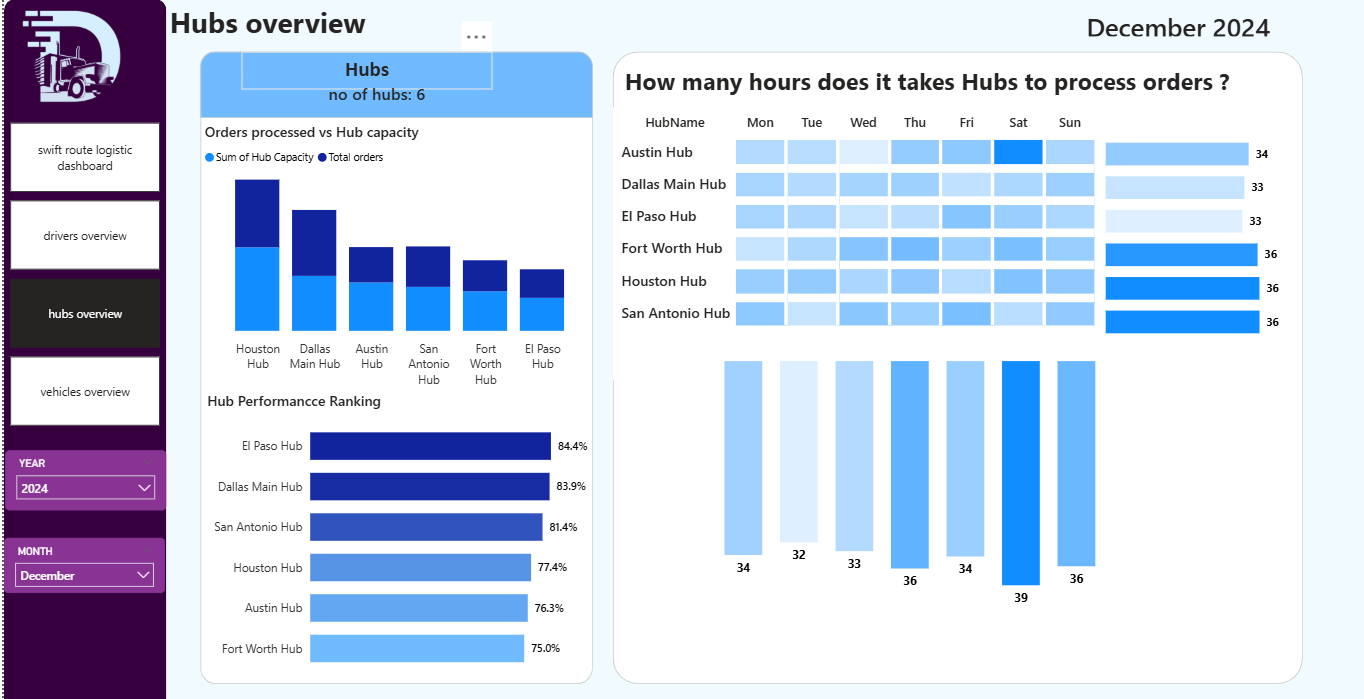

The page's visual inventory and layout, read from the dashboard file:
{"tool":"powerbi","page":{"name":"hubs overview","canvas":[1600,800],"ordinal":2},"visuals":[{"type":"shape","box":[0,0,185.7,892.9],"z":0},{"type":"textbox","box":[184.8,0,667,60.6],"z":1000},{"type":"slicer","fields":{"Values":["Date Table.YEAR"]},"box":[1.4,515.7,184.3,68.6],"z":2000},{"type":"slicer","fields":{"Values":["Date Table.MONTH"]},"box":[0,615.7,184.3,62.9],"z":3000},{"type":"image","box":[10,0,137.1,140],"z":4000},{"type":"cardVisual","fields":{"Data":["Orders.year month title"]},"box":[1170,0,344.3,60],"z":5000},{"type":"shape","box":[695.7,60,788.6,722.9],"z":6000},{"type":"shape","box":[224.3,60,448.6,722.9],"z":7000},{"type":"shape","box":[224.3,60,448.6,75.7],"z":8000},{"type":"textbox","box":[271.4,60,287.1,42.9],"z":9000},{"type":"cardVisual","fields":{"Data":["Hubs.no of hubs"]},"box":[254.3,72.9,344.3,67.1],"z":10000},{"type":"columnChart","title":"Orders processed vs Hub capacity","fields":{"Category":["Hubs.HubName"],"Y":["Sum(Hubs.Hub Capacity)","Orders.Total orders"]},"box":[224.3,140,448.6,311.4],"z":11000},{"type":"barChart","title":"Hub Performancce Ranking","fields":{"Category":["Hubs.HubName"],"Y":["Orders.On time delivery rate"]},"box":[227.1,447.1,445.7,335.7],"z":12000},{"type":"pivotTable","fields":{"Rows":["Hubs.HubName"],"Columns":["Date Table.day"],"Values":["Orders.average delivery time (hrs)"]},"box":[695.7,124.3,585.7,311.4],"z":13000},{"type":"columnChart","fields":{"Category":["Date Table.day"],"Y":["Orders.average delivery time (hrs)"]},"box":[818.6,400,435.7,300],"z":14000},{"type":"barChart","fields":{"Category":["Hubs.HubName"],"Y":["Orders.average delivery time (hrs)"]},"box":[1254.3,151.4,284.3,237.1],"z":15000},{"type":"textbox","box":[704.3,70,771.4,54.3],"z":16000},{"type":"pageNavigator","box":[7.1,141.4,171.4,347.1],"z":17000}]}

Visuals, with their boxes on the page's 1600x800 design canvas (x1, y1, x2, y2). These are canvas units, not pixel positions in the 1364x699 screenshot, which may show the page scaled, cropped or inside an application window:
shape: [left=0, top=0, right=186, bottom=893]
textbox: [left=185, top=0, right=852, bottom=61]
slicer - Date Table.YEAR: [left=1, top=516, right=186, bottom=584]
slicer - Date Table.MONTH: [left=0, top=616, right=184, bottom=679]
image: [left=10, top=0, right=147, bottom=140]
cardVisual - Orders.year month title: [left=1170, top=0, right=1514, bottom=60]
shape: [left=696, top=60, right=1484, bottom=783]
shape: [left=224, top=60, right=673, bottom=783]
shape: [left=224, top=60, right=673, bottom=136]
textbox: [left=271, top=60, right=558, bottom=103]
cardVisual - Hubs.no of hubs: [left=254, top=73, right=599, bottom=140]
"Orders processed vs Hub capacity" columnChart: [left=224, top=140, right=673, bottom=451]
"Hub Performancce Ranking" barChart: [left=227, top=447, right=673, bottom=783]
pivotTable - Hubs.HubName x Date Table.day: [left=696, top=124, right=1281, bottom=436]
columnChart - Date Table.day x Orders.average delivery time (hrs): [left=819, top=400, right=1254, bottom=700]
barChart - Hubs.HubName x Orders.average delivery time (hrs): [left=1254, top=151, right=1539, bottom=388]
textbox: [left=704, top=70, right=1476, bottom=124]
pageNavigator: [left=7, top=141, right=178, bottom=488]
